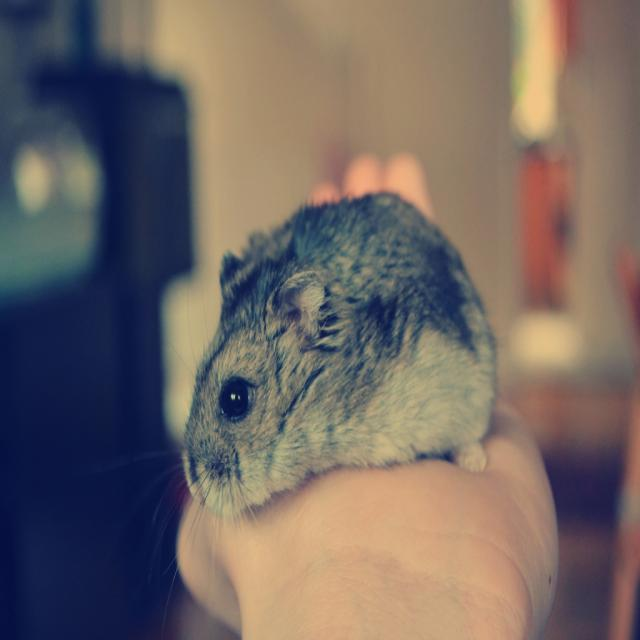rat: (181, 189, 498, 520)
